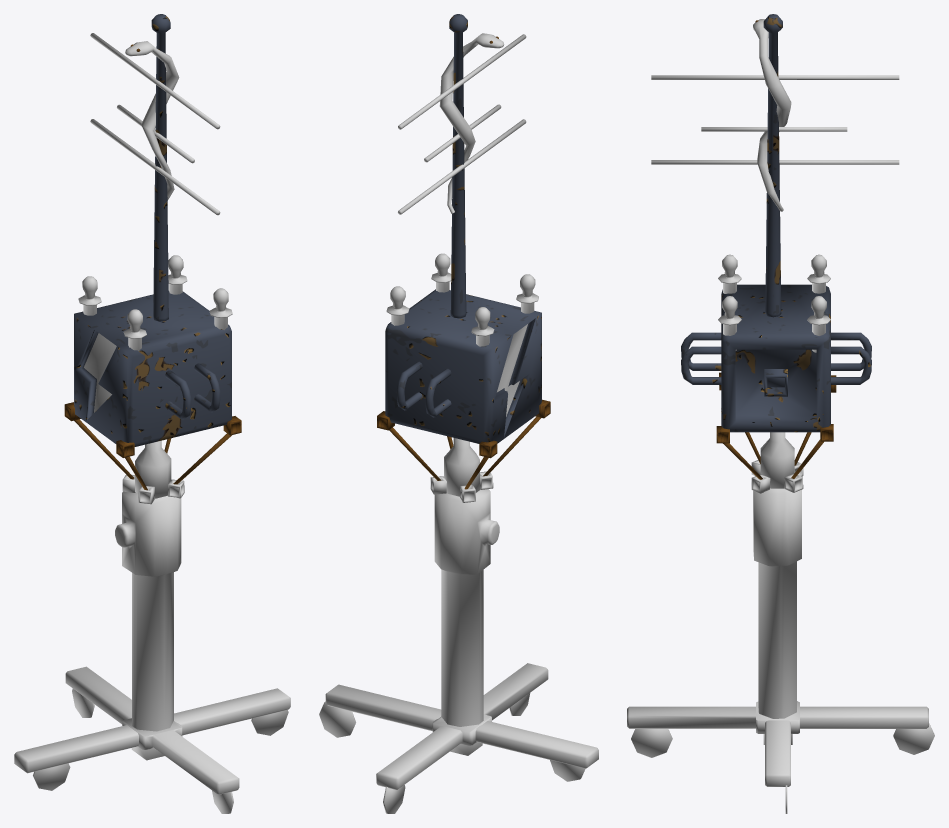
The model's file is TURRETA DE PURAQUE.dae.
3 views of the same model, side by side, from view 1: azimuth 30°, elevation 25°; view 2: azimuth 150°, elevation 25°; view 3: azimuth 270°, elevation 25° (orthographic).
Visible parts, largest first — view 1: eletrica, PE; view 2: eletrica, PE; view 3: eletrica, PE.
Part boxes in pixels (left/top/right/bottom): eletrica: left=64, top=14, right=241, bottom=504; PE: left=14, top=491, right=290, bottom=813; eletrica: left=377, top=14, right=550, bottom=502; PE: left=319, top=489, right=598, bottom=813; eletrica: left=651, top=14, right=899, bottom=493; PE: left=627, top=488, right=934, bottom=813.
Bounding box in the file's own units: 3.31 × 3.28 × 8.73.
